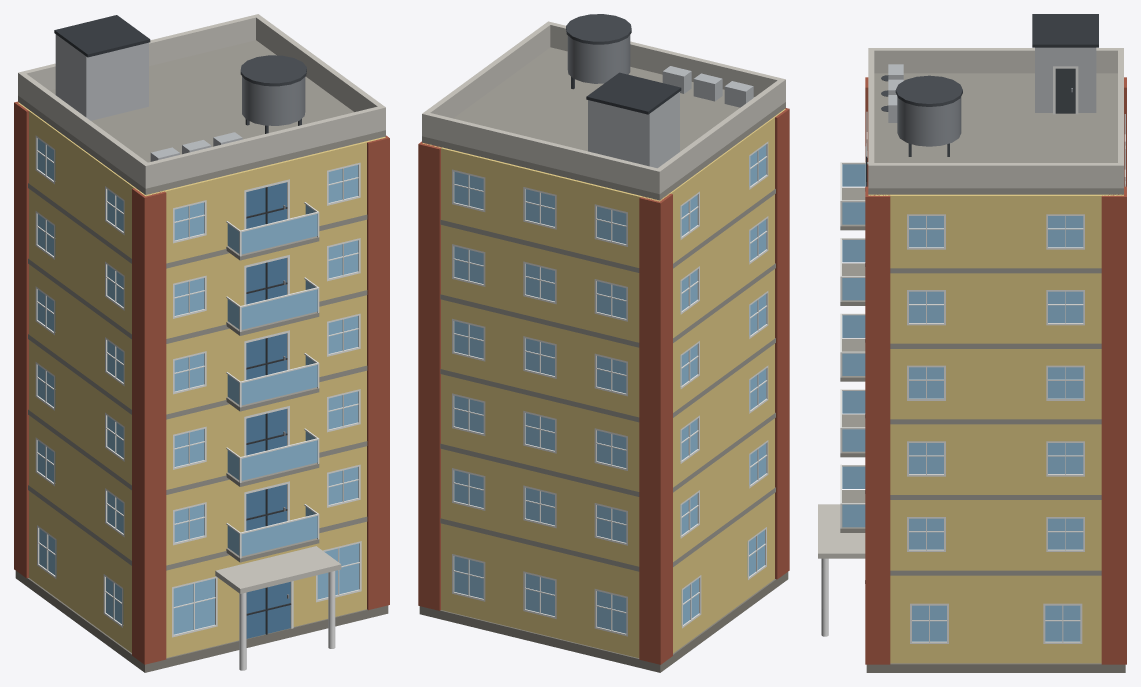
Rendered from predio-residencial-6.glb.
The picture shows the model from 3 angles, left to right: view 1: azimuth 30°, elevation 25°; view 2: azimuth 150°, elevation 25°; view 3: azimuth 270°, elevation 25°; orthographic projection.
Visible parts, largest first — view 1: Paredes, Detalhes, Telhado, Vidro, Molduras, VidroLuz; view 2: Paredes, Detalhes, Telhado, Molduras, Vidro, VidroLuz; view 3: Paredes, Detalhes, Telhado, Vidro, Molduras, VidroLuz, Portas.
Part boxes in pixels (box(x1,y1,x2,y2)): Paredes: box(15, 102, 388, 672); Detalhes: box(14, 15, 389, 670); Telhado: box(18, 14, 385, 194); Vidro: box(37, 165, 359, 624); Molduras: box(28, 135, 367, 637); VidroLuz: box(37, 138, 358, 638); Paredes: box(419, 109, 788, 672); Detalhes: box(418, 14, 789, 664); Telhado: box(422, 21, 785, 200); Molduras: box(440, 141, 775, 636); Vidro: box(454, 171, 766, 633); VidroLuz: box(454, 145, 766, 625); Paredes: box(840, 187, 1125, 672); Detalhes: box(818, 14, 1126, 664); Telhado: box(868, 48, 1123, 194); Vidro: box(842, 164, 1083, 641); Molduras: box(840, 66, 1125, 643); VidroLuz: box(909, 443, 1083, 549); Portas: box(1055, 68, 1075, 113).
Bounding box in the file's own units: 10.2 × 21.92 × 11.1.
